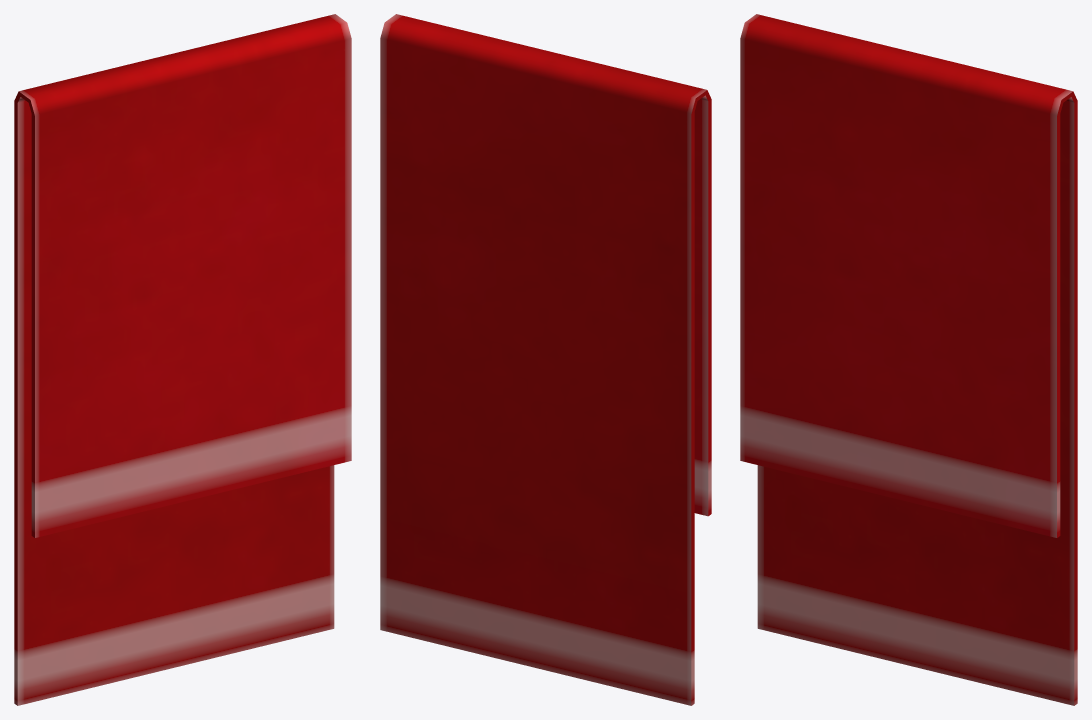
File: Towel_1.fbx
3 views of the same model, side by side, from view 1: azimuth 30°, elevation 25°; view 2: azimuth 150°, elevation 25°; view 3: azimuth 330°, elevation 25° (orthographic).
Parts seen in each view (by area): view 1: polySurface679; view 2: polySurface679; view 3: polySurface679.
Boxes of the visible parts, <box> form: polySurface679: <box>14,14,351,705</box>; polySurface679: <box>380,14,711,705</box>; polySurface679: <box>740,14,1077,705</box>.
Size of the model in its own units: 0.55 by 1.02 by 0.0617.
